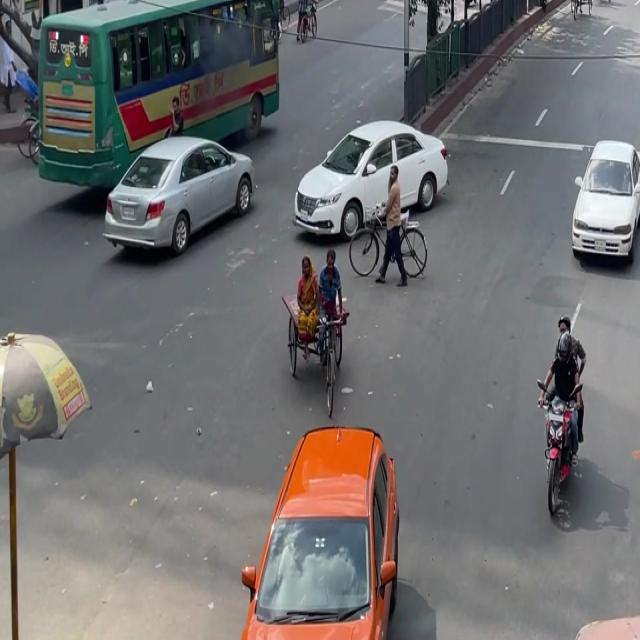bus: (34, 0, 284, 173)
car: (230, 400, 410, 639), (94, 111, 262, 278), (289, 98, 454, 268), (565, 128, 640, 273)
motorbike: (525, 286, 603, 533)
van: (279, 241, 358, 421)
